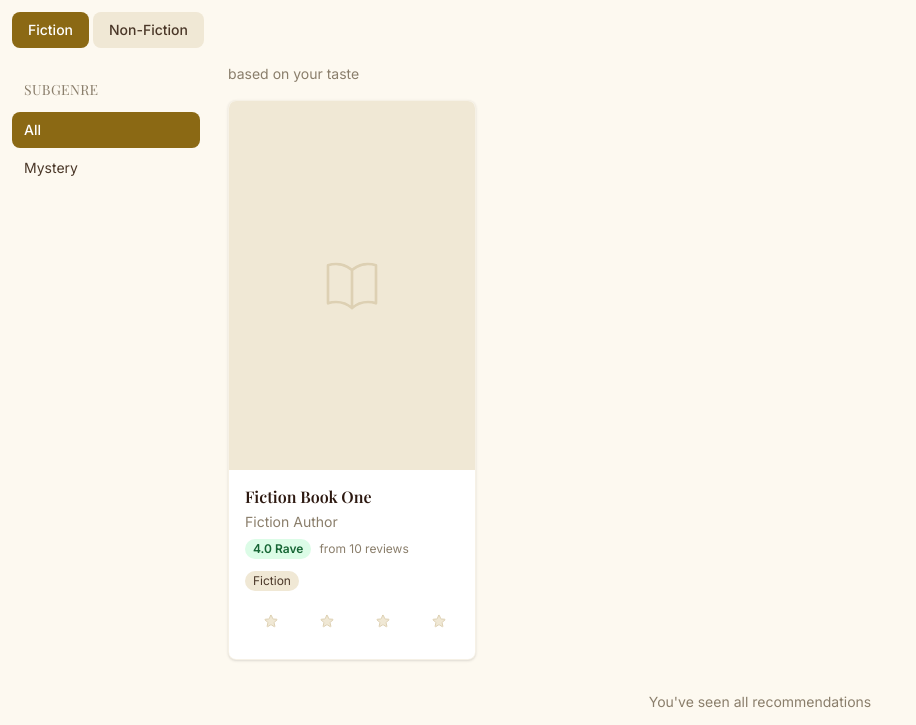
Test case: RecommendationGrid › shows nonfiction empty state
The image size is (916, 725).
Expected: the heading "Fiction Book One" is shown, [245, 486, 372, 507]
Click the tab "Non-Fiction" at (148, 30), box [93, 12, 204, 48]
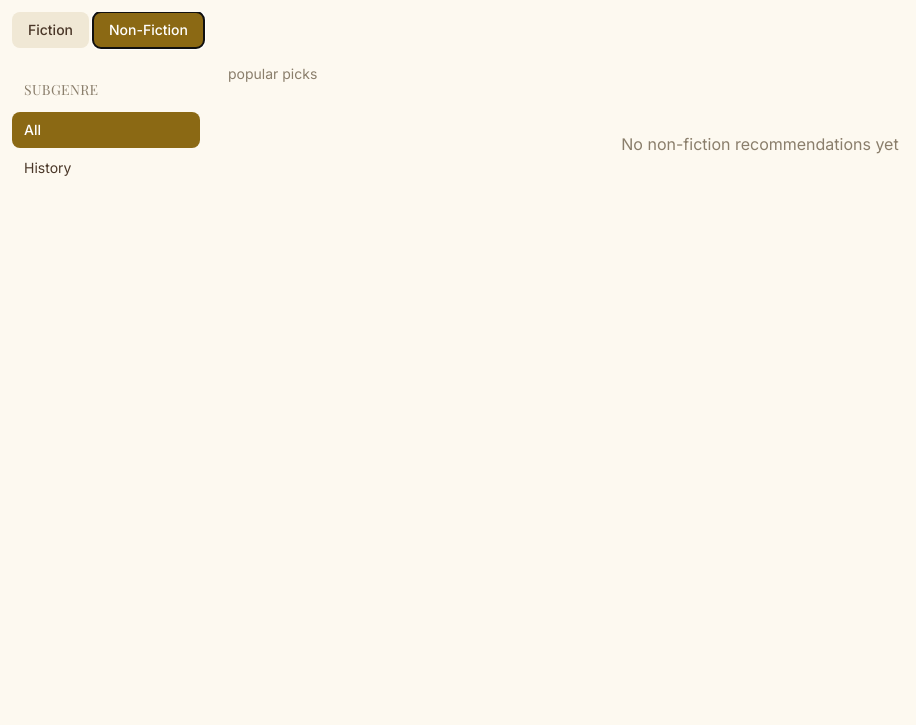
Now the text "No non-fiction recommendations yet" is shown, box [621, 134, 899, 154]
